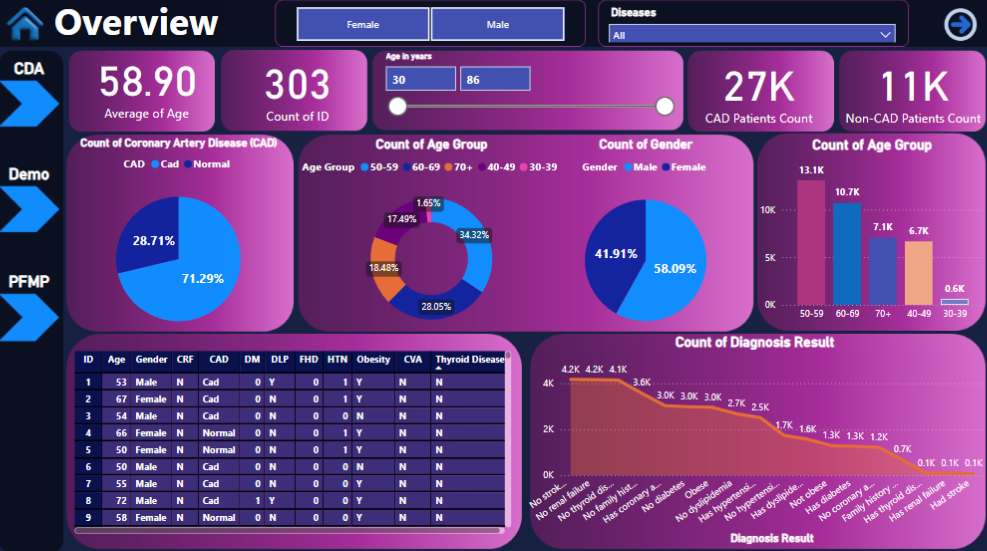

The page's visual inventory and layout, read from the dashboard file:
{"tool":"powerbi","page":{"name":"Overview","canvas":[1280,720],"ordinal":0},"visuals":[{"type":"card","fields":{"Values":["Count(CAD Dataset.ID)"]},"box":[301.2,61.7,173.4,101.4],"z":0},{"type":"pieChart","title":"Count of Gender","fields":{"Category":["CAD Dataset.Gender"],"Y":["CountNonNull(CAD Dataset.Gender)"]},"box":[678.9,176.3,318.9,273.3],"z":1000},{"type":"areaChart","title":"Count of Diagnosis Result","fields":{"Category":["CAD Dataset.Diagnosis Result"],"Y":["CountNonNull(CAD Dataset.Diagnosis Result)"]},"box":[678.9,432,601,277.7],"z":2000},{"type":"pieChart","title":"Count of Coronary Artery Disease (CAD)","fields":{"Category":["CAD Dataset.Coronary Artery Disease (CAD)"],"Y":["CountNonNull(CAD Dataset.Coronary Artery Disease (CAD))"]},"box":[66.1,176.3,335,273.3],"z":3000},{"type":"card","fields":{"Values":["Avg(CAD Dataset.Age in years)"]},"box":[101.6,54,181,111.1],"z":4000},{"type":"donutChart","title":"Count of Age Group","fields":{"Category":["CAD Dataset.Age Group"],"Y":["CountNonNull(CAD Dataset.Age Group)"]},"box":[385.2,176.4,349.7,268.9],"z":5000},{"type":"tableEx","fields":{"Values":["CAD Dataset.ID","CAD Dataset.Age in years","CAD Dataset.Gender","CAD Dataset.Chronic Renal Failure","CAD Dataset.Coronary Artery Disease (CAD)","CAD Dataset.Diabetes Mellitus","CAD Dataset.Dyslipidemia","CAD Dataset.Family History of Heart Disease","CAD Dataset.Hypertension","CAD Dataset.Obesity","CAD Dataset.Previous Stroke (CVA)","CAD Dataset.Thyroid Disease"]},"box":[92.6,449.6,576,246.9],"z":6000},{"type":"clusteredColumnChart","title":"Count of  Age Group","fields":{"Category":["CAD Dataset.Age Group"],"Y":["CountNonNull(CAD Dataset.Age in years)"]},"box":[980.1,176.3,299.8,249.8],"z":7000},{"type":"card","fields":{"Values":["CAD Dataset.CAD Patients Count"]},"box":[893.7,65.1,182.5,98.4],"z":8000},{"type":"card","fields":{"Values":["CAD Dataset.Non-CAD Patients Count"]},"box":[1088.9,65.1,190.5,98.4],"z":9000},{"type":"image","box":[0,0,68.3,61.9],"z":10000},{"type":"textbox","box":[66.7,0,234.9,76.2],"z":11000},{"type":"image","box":[1211.1,0,68.3,63.5],"z":12000},{"type":"slicer","fields":{"Values":["CAD Dataset.Age in years"]},"box":[488.9,61.9,395.2,100],"z":13000},{"type":"slicer","fields":{"Values":["CAD Dataset.Diseases"]},"box":[780.2,2.9,390.9,51.4],"z":14000},{"type":"slicer","fields":{"Values":["CAD Dataset.Gender"]},"box":[360,2.9,396.7,57.3],"z":15000},{"type":"shape","title":"CDA","box":[0,76.2,79.4,88],"z":16000},{"type":"shape","title":"Demo","box":[0,213.1,79.3,88.2],"z":17000},{"type":"shape","title":"PFMP","box":[0,353,78.8,89.4],"z":18000}]}

Visuals, with their boxes in screenshot pixels (x1, y1, x2, y2), scaled from the page's 1280x720 canvas onto the 987x551 screenshot:
card - Count(CAD Dataset.ID): <region>232, 47, 366, 125</region>
"Count of Gender" pieChart: <region>523, 135, 769, 344</region>
"Count of Diagnosis Result" areaChart: <region>523, 331, 986, 543</region>
"Count of Coronary Artery Disease (CAD)" pieChart: <region>51, 135, 309, 344</region>
card - Avg(CAD Dataset.Age in years): <region>78, 41, 218, 126</region>
"Count of Age Group" donutChart: <region>297, 135, 567, 341</region>
tableEx - CAD Dataset.ID x CAD Dataset.Age in years: <region>71, 344, 516, 533</region>
"Count of  Age Group" clusteredColumnChart: <region>756, 135, 986, 326</region>
card - CAD Dataset.CAD Patients Count: <region>689, 50, 830, 125</region>
card - CAD Dataset.Non-CAD Patients Count: <region>840, 50, 986, 125</region>
image: <region>0, 0, 53, 47</region>
textbox: <region>51, 0, 233, 58</region>
image: <region>934, 0, 986, 49</region>
slicer - CAD Dataset.Age in years: <region>377, 47, 682, 124</region>
slicer - CAD Dataset.Diseases: <region>602, 2, 903, 42</region>
slicer - CAD Dataset.Gender: <region>278, 2, 583, 46</region>
"CDA" shape: <region>0, 58, 61, 126</region>
"Demo" shape: <region>0, 163, 61, 231</region>
"PFMP" shape: <region>0, 270, 61, 339</region>
